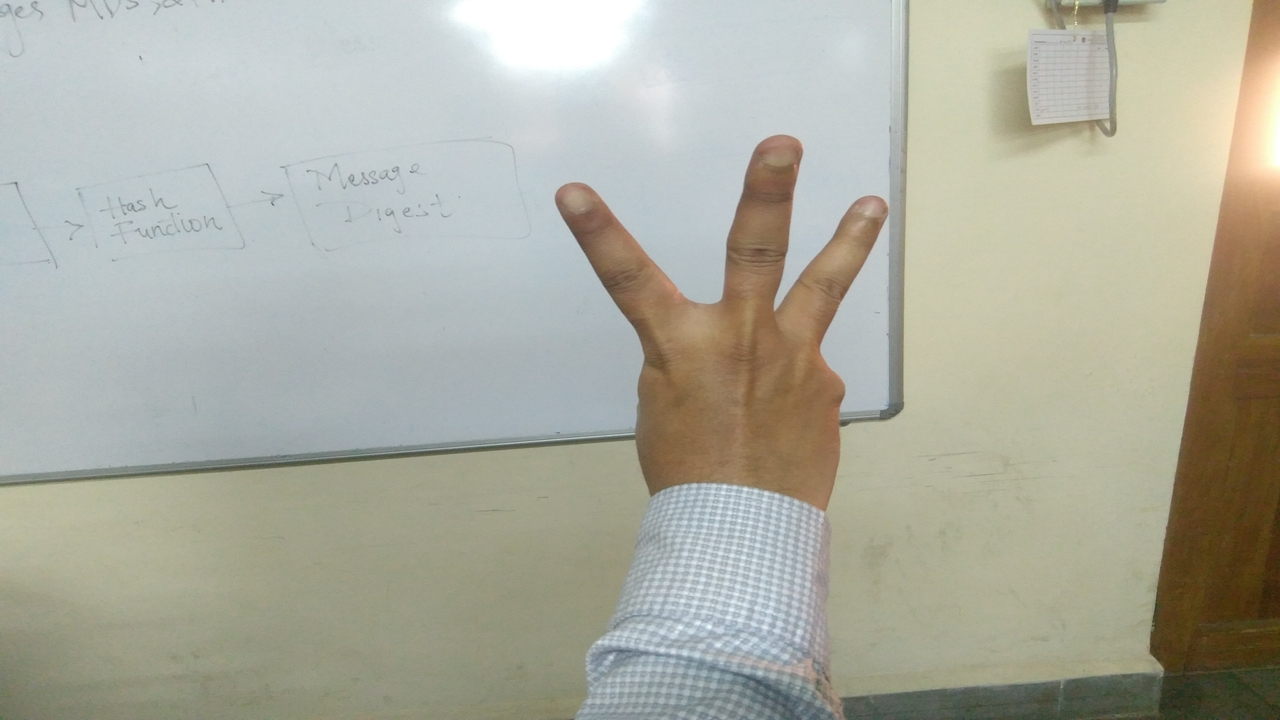fingertip: (830, 184, 898, 240), (546, 172, 614, 226), (738, 134, 810, 184)
